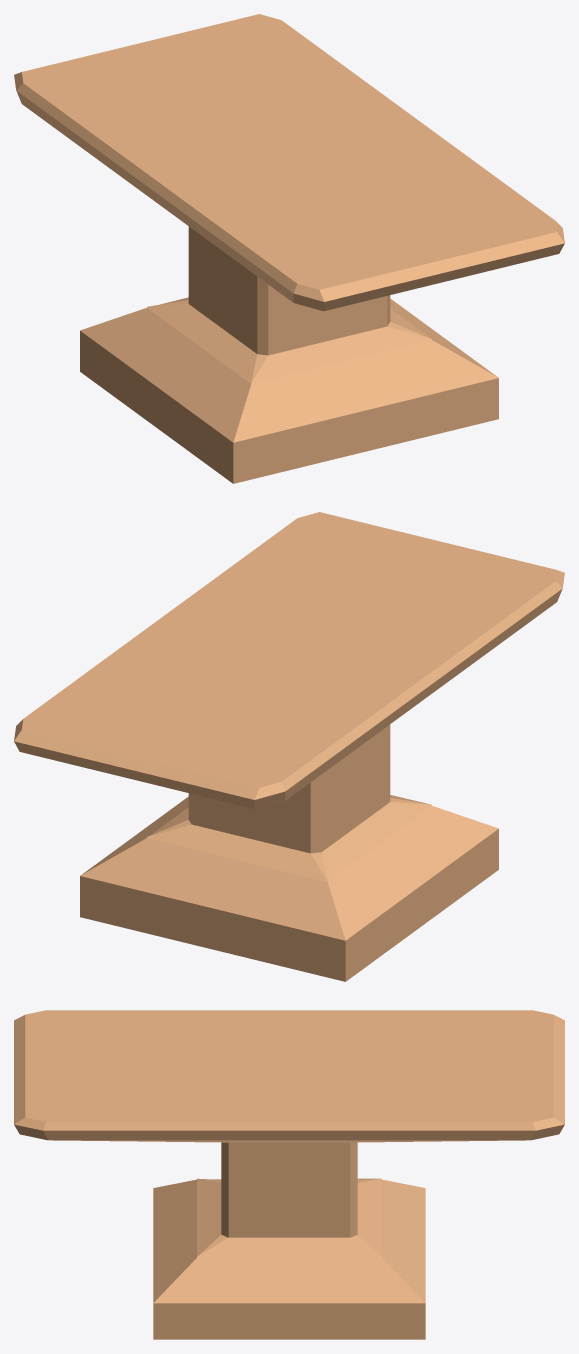
The model's file is m_table.glb.
3 renders of one model, top to bottom at view 1: azimuth 30°, elevation 25°; view 2: azimuth 150°, elevation 25°; view 3: azimuth 270°, elevation 25°, orthographic. The views are drawn at different scales.
Parts seen in each view (by area): view 1: M_Table; view 2: M_Table; view 3: M_Table.
Boxes of the visible parts, x1,y1,x2,y2 form: M_Table: (14, 14, 564, 483); M_Table: (14, 512, 564, 981); M_Table: (14, 1010, 564, 1339).
Size of the model in its own units: 0.7323 by 0.6329 by 1.46.
1 material, 1 textured.
